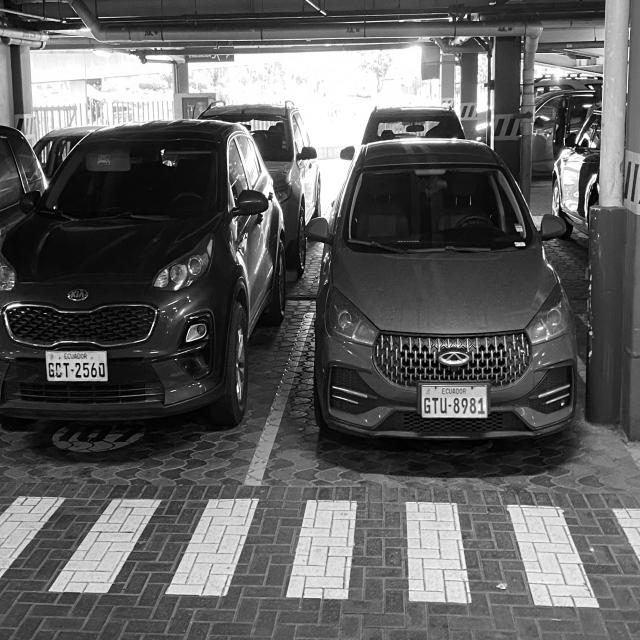Placa: (418, 384, 489, 418), (46, 351, 108, 382)
